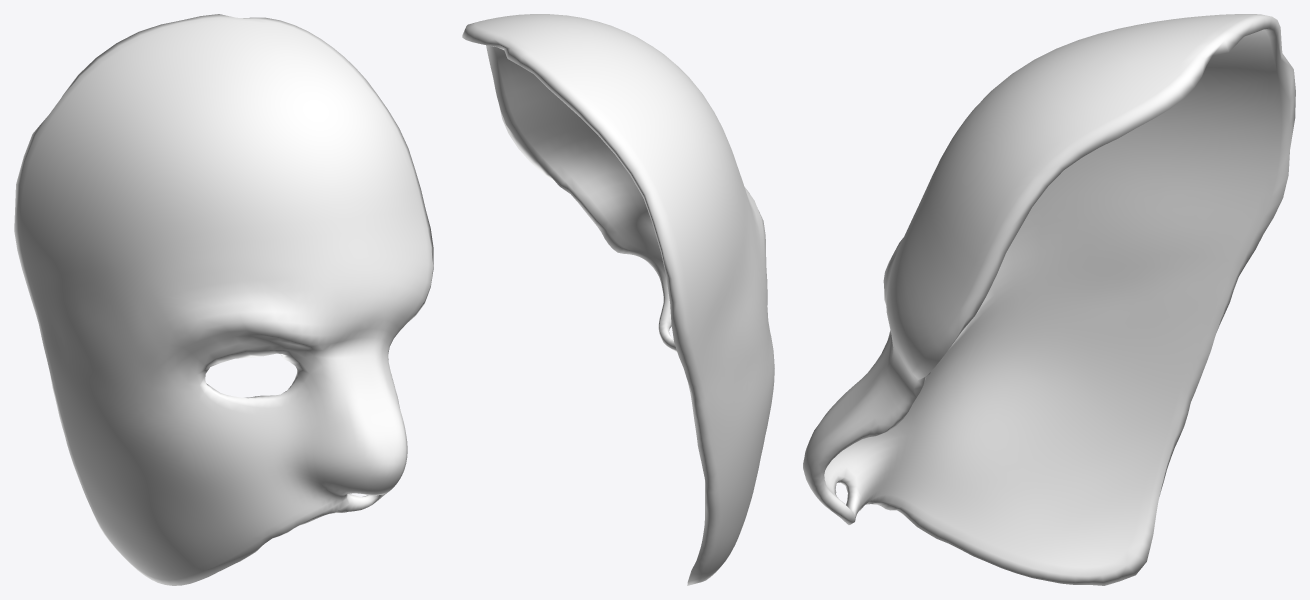
File: mask (4).glb
3 renders of one model, left to right at view 1: azimuth 30°, elevation 25°; view 2: azimuth 150°, elevation 25°; view 3: azimuth 270°, elevation 25°, orthographic. The views are drawn at different scales.
Parts seen in each view (by area): view 1: Mask; view 2: Mask; view 3: Mask.
Part boxes in pixels (left/top/right/bottom): Mask: left=14, top=14, right=433, bottom=585; Mask: left=462, top=14, right=774, bottom=585; Mask: left=803, top=14, right=1295, bottom=585.
Size of the model in its own units: 15.11 by 24.47 by 17.61.
1 material, 1 textured.
